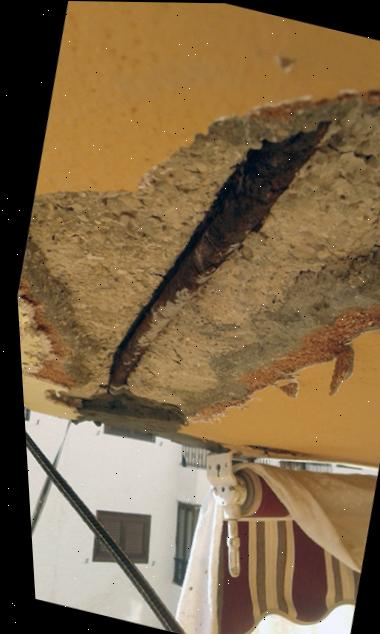exposed_rebar: (108, 121, 330, 393)
spalling: (18, 89, 380, 455)
